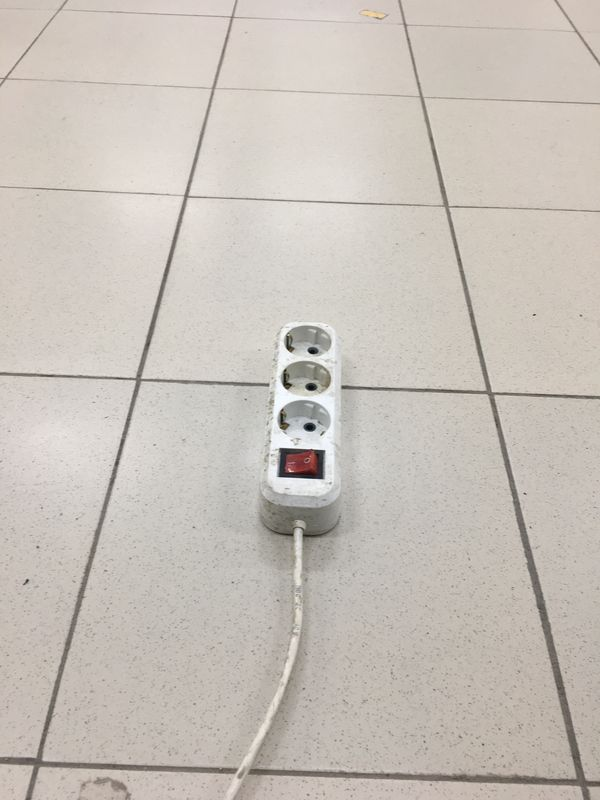socket: (258, 312, 346, 545)
